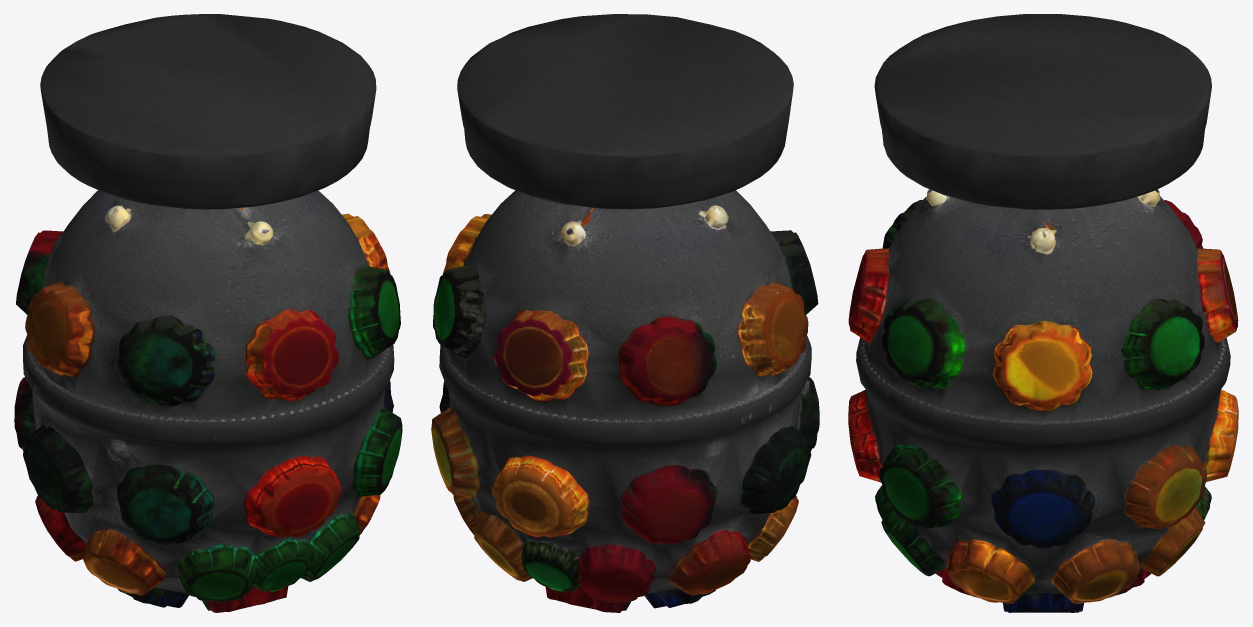
File: discoball.glb
3 views of the same model, side by side, from view 1: azimuth 30°, elevation 25°; view 2: azimuth 150°, elevation 25°; view 3: azimuth 270°, elevation 25° (orthographic).
Size of the model in its own units: 1.34 by 1.91 by 1.33.
Materials: 1 (1 with a texture image).
